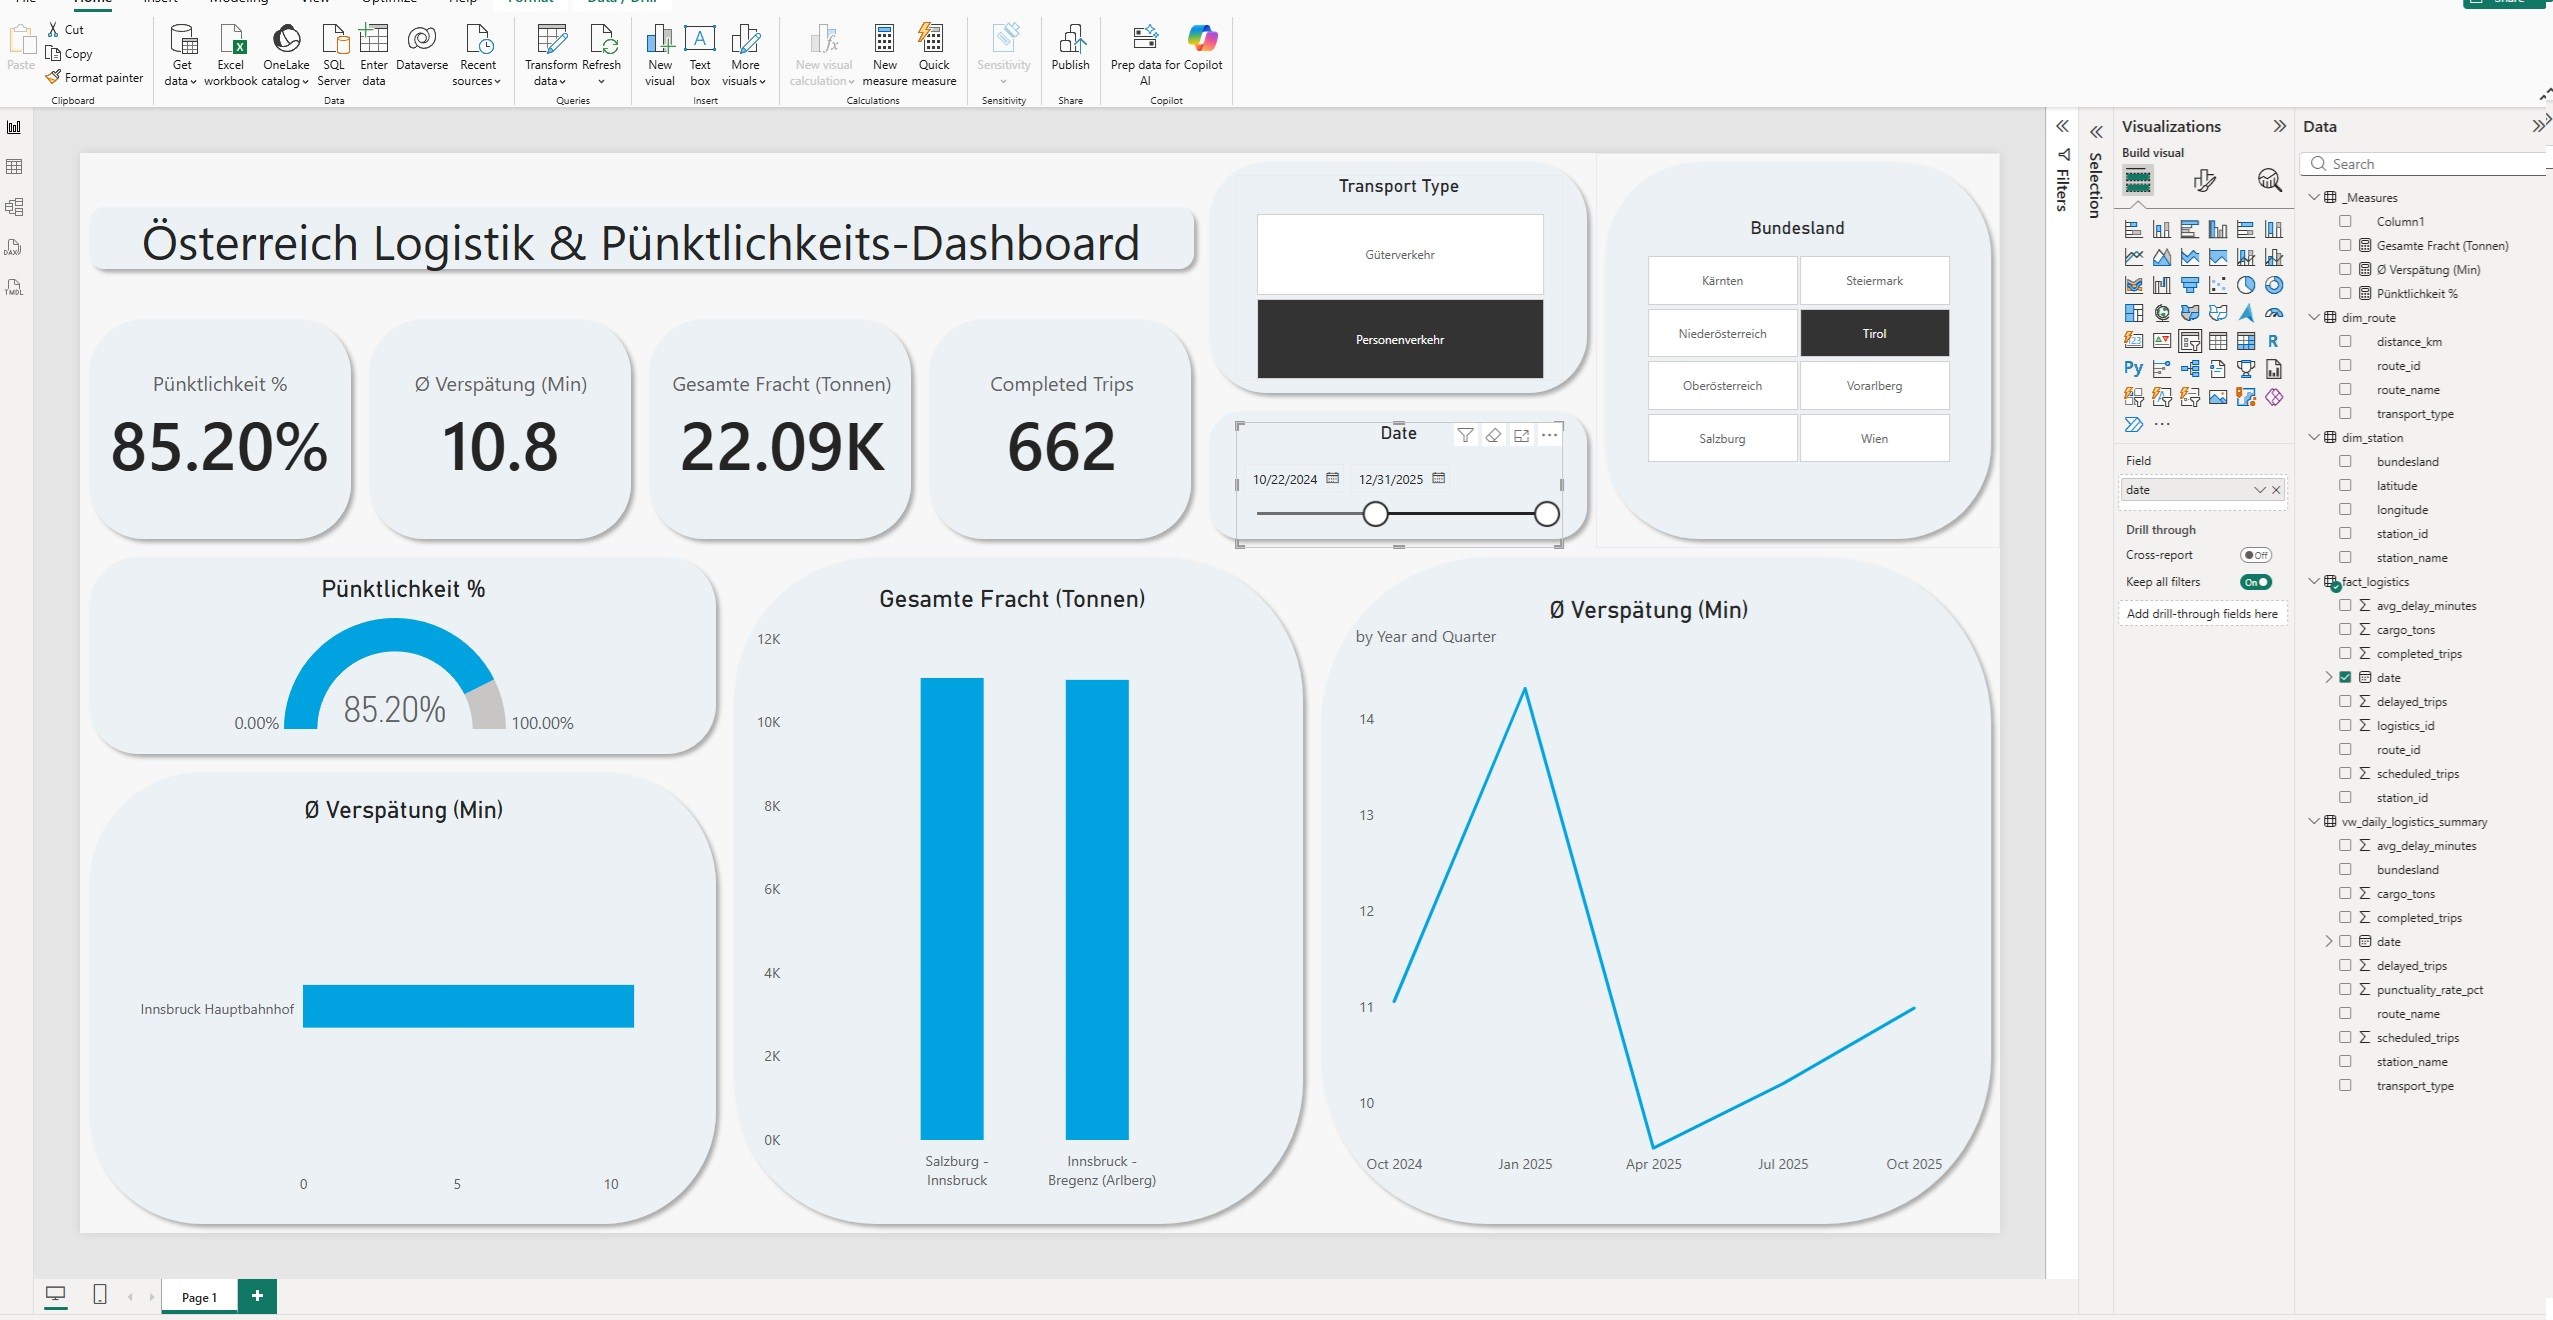

The page's visual inventory and layout, read from the dashboard file:
{"tool":"powerbi","page":{"name":"Page 1","canvas":[1920,1080],"ordinal":0},"visuals":[{"type":"group","id":"g1","title":"Background","box":[0,0,1920,1080],"z":0},{"type":"shape","box":[0,45,1123,80],"z":0,"group":"g1"},{"type":"shape","box":[1120,0,396,249],"z":1000,"group":"g1"},{"type":"slicer","title":"Transport Type","fields":{"Values":["dim_route.transport_type"]},"box":[1156,22,327,206],"z":1000},{"type":"shape","box":[1516,0,404,395],"z":2000,"group":"g1"},{"type":"slicer","title":"Bundesland","fields":{"Values":["dim_station.bundesland"]},"box":[1547,64,342,247],"z":2000},{"type":"shape","box":[1120,249,396,146],"z":3000,"group":"g1"},{"type":"slicer","title":"Date","fields":{"Values":["fact_logistics.date"]},"box":[1156,269,327,126],"z":3000},{"type":"cardVisual","fields":{"Data":["_Measures.Pünktlichkeit %"]},"box":[0,157,281,238],"z":4000},{"type":"shape","box":[840,157,280,238],"z":4000,"group":"g1"},{"type":"cardVisual","fields":{"Data":["_Measures.Ø Verspätung (Min)"]},"box":[281,157,281,238],"z":5000},{"type":"shape","box":[560,157,280,238],"z":5000,"group":"g1"},{"type":"shape","box":[280,157,280,238],"z":6000,"group":"g1"},{"type":"cardVisual","fields":{"Data":["_Measures.Gesamte Fracht (Tonnen)"]},"box":[562,157,281,238],"z":6000},{"type":"shape","box":[0,157,280,238],"z":7000,"group":"g1"},{"type":"cardVisual","fields":{"Data":["Sum(fact_logistics.completed_trips)"]},"box":[842,157,281,238],"z":7000},{"type":"shape","box":[0,395,645,215],"z":8000,"group":"g1"},{"type":"gauge","fields":{"Y":["_Measures.Pünktlichkeit %"]},"box":[32,408,584,189],"z":8000},{"type":"shape","box":[1232,395,688,685],"z":9000,"group":"g1"},{"type":"clusteredBarChart","title":"Ø Verspätung (Min)","fields":{"Category":["dim_station.station_name"],"Y":["_Measures.Ø Verspätung (Min)"]},"box":[32,629,584,433],"z":9000},{"type":"shape","box":[645,395,587,685],"z":10000,"group":"g1"},{"type":"columnChart","title":"Gesamte Fracht (Tonnen)","fields":{"Category":["dim_route.route_name"],"Y":["_Measures.Gesamte Fracht (Tonnen)"]},"box":[660,418,545,637],"z":10000},{"type":"lineChart","fields":{"Category":["fact_logistics.date.Variation.Date Hierarchy.Year","fact_logistics.date.Variation.Date Hierarchy.Quarter","fact_logistics.date.Variation.Date Hierarchy.Month","fact_logistics.date.Variation.Date Hierarchy.Day"],"Y":["_Measures.Ø Verspätung (Min)"]},"box":[1260,429,618,613],"z":11000},{"type":"shape","box":[0,610,645,470],"z":11000,"group":"g1"},{"type":"textbox","box":[2,55,1120,80],"z":12000}]}

Visuals, with their boxes on the page's 1920x1080 design canvas (x1, y1, x2, y2). These are canvas units, not pixel positions in the 2553x1320 screenshot, which may show the page scaled, cropped or inside an application window:
"Background" group: (left=0, top=0, right=1920, bottom=1080)
shape: (left=0, top=45, right=1123, bottom=125)
shape: (left=1120, top=0, right=1516, bottom=249)
"Transport Type" slicer: (left=1156, top=22, right=1483, bottom=228)
shape: (left=1516, top=0, right=1920, bottom=395)
"Bundesland" slicer: (left=1547, top=64, right=1889, bottom=311)
shape: (left=1120, top=249, right=1516, bottom=395)
"Date" slicer: (left=1156, top=269, right=1483, bottom=395)
cardVisual - _Measures.Pünktlichkeit %: (left=0, top=157, right=281, bottom=395)
shape: (left=840, top=157, right=1120, bottom=395)
cardVisual - _Measures.Ø Verspätung (Min): (left=281, top=157, right=562, bottom=395)
shape: (left=560, top=157, right=840, bottom=395)
shape: (left=280, top=157, right=560, bottom=395)
cardVisual - _Measures.Gesamte Fracht (Tonnen): (left=562, top=157, right=843, bottom=395)
shape: (left=0, top=157, right=280, bottom=395)
cardVisual - Sum(fact_logistics.completed_trips): (left=842, top=157, right=1123, bottom=395)
shape: (left=0, top=395, right=645, bottom=610)
gauge - _Measures.Pünktlichkeit %: (left=32, top=408, right=616, bottom=597)
shape: (left=1232, top=395, right=1920, bottom=1080)
"Ø Verspätung (Min)" clusteredBarChart: (left=32, top=629, right=616, bottom=1062)
shape: (left=645, top=395, right=1232, bottom=1080)
"Gesamte Fracht (Tonnen)" columnChart: (left=660, top=418, right=1205, bottom=1055)
lineChart - fact_logistics.date.Variation.Date Hierarchy.Year x fact_logistics.date.Variation.Date Hierarchy.Quarter: (left=1260, top=429, right=1878, bottom=1042)
shape: (left=0, top=610, right=645, bottom=1080)
textbox: (left=2, top=55, right=1122, bottom=135)
